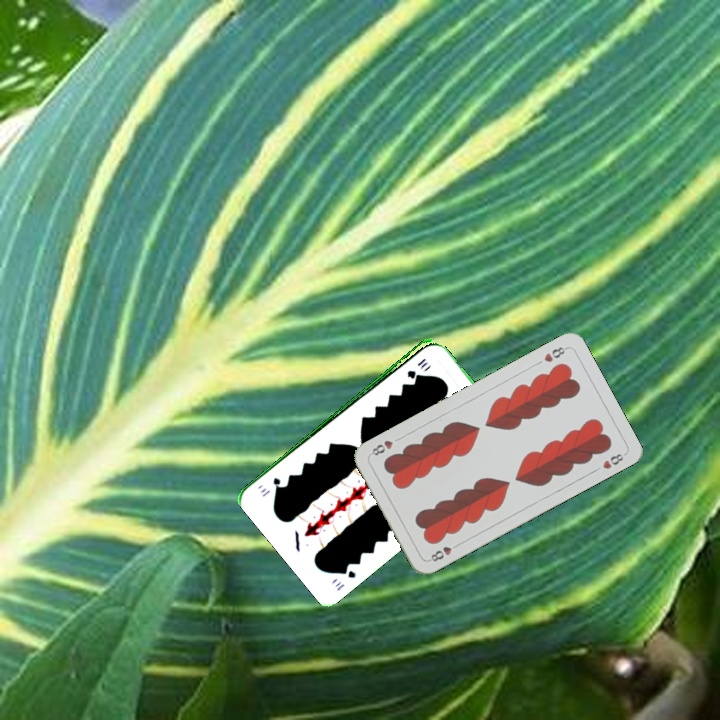G10: (331, 564, 359, 593), (403, 354, 428, 380)
H8: (425, 539, 462, 564), (540, 343, 570, 365)
